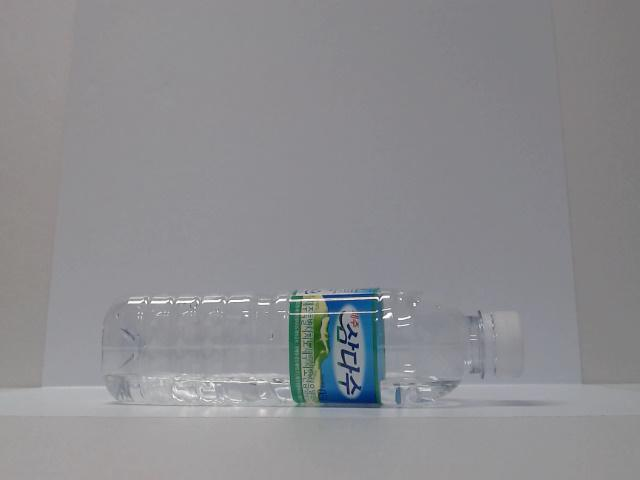bottle: (34, 282, 482, 416)
